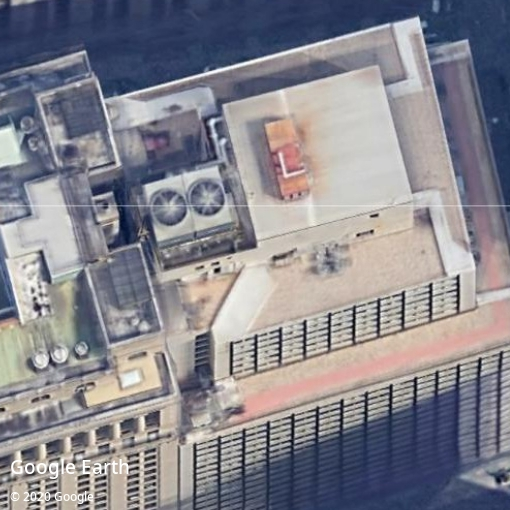Vent: (152, 190, 187, 226), (190, 180, 225, 216)
